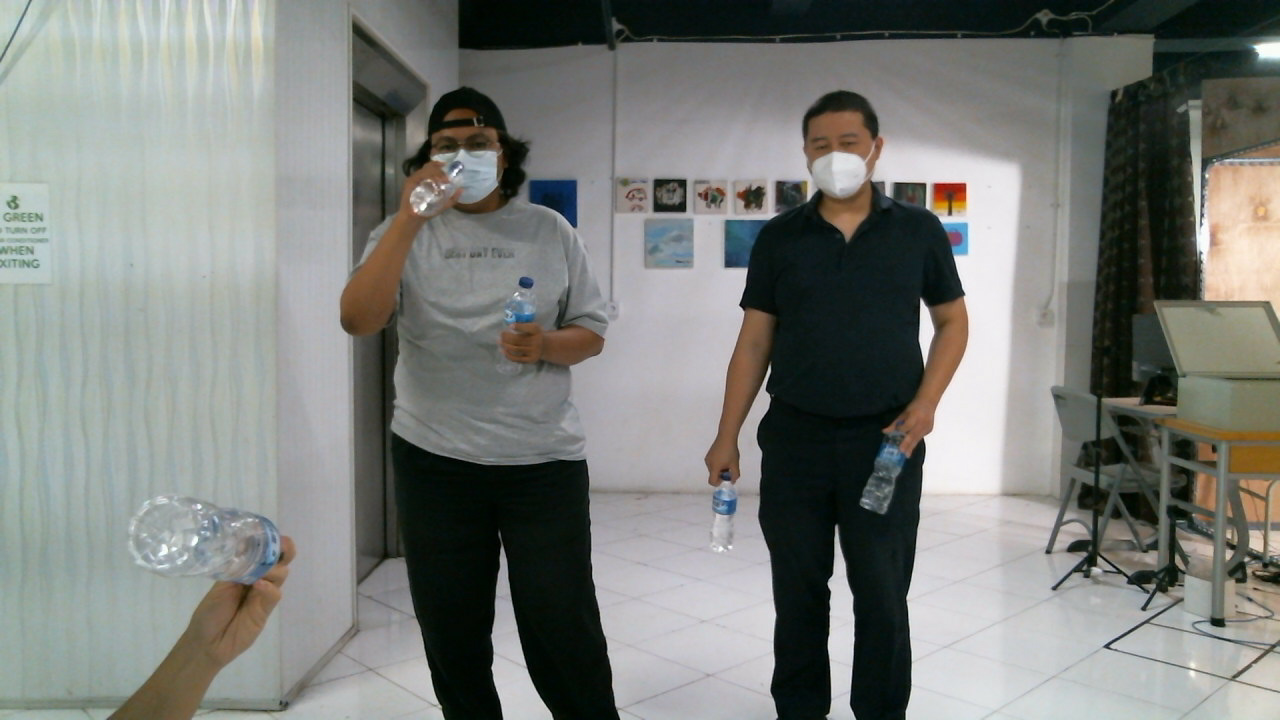Bottle: (713, 471, 738, 552)
